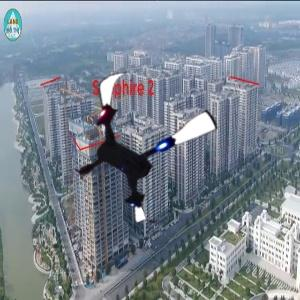drone: (63, 65, 225, 227)
